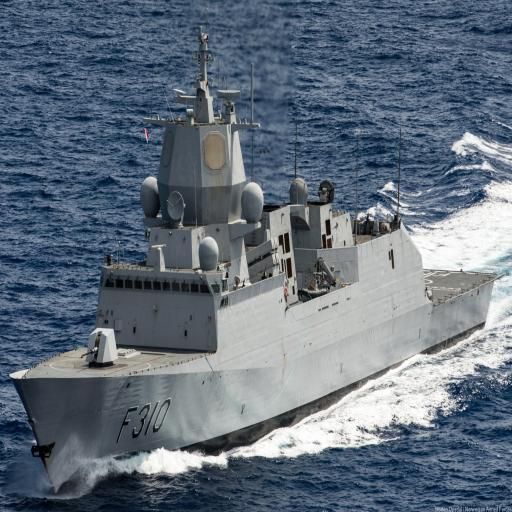Fragata: (8, 50, 501, 503)
